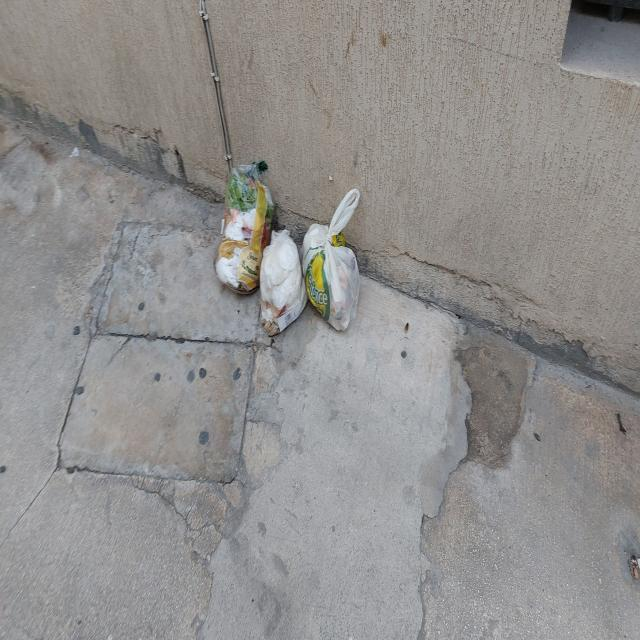Organic Waste -White Bag-: (303, 183, 364, 338), (214, 159, 276, 300), (261, 227, 307, 344)
